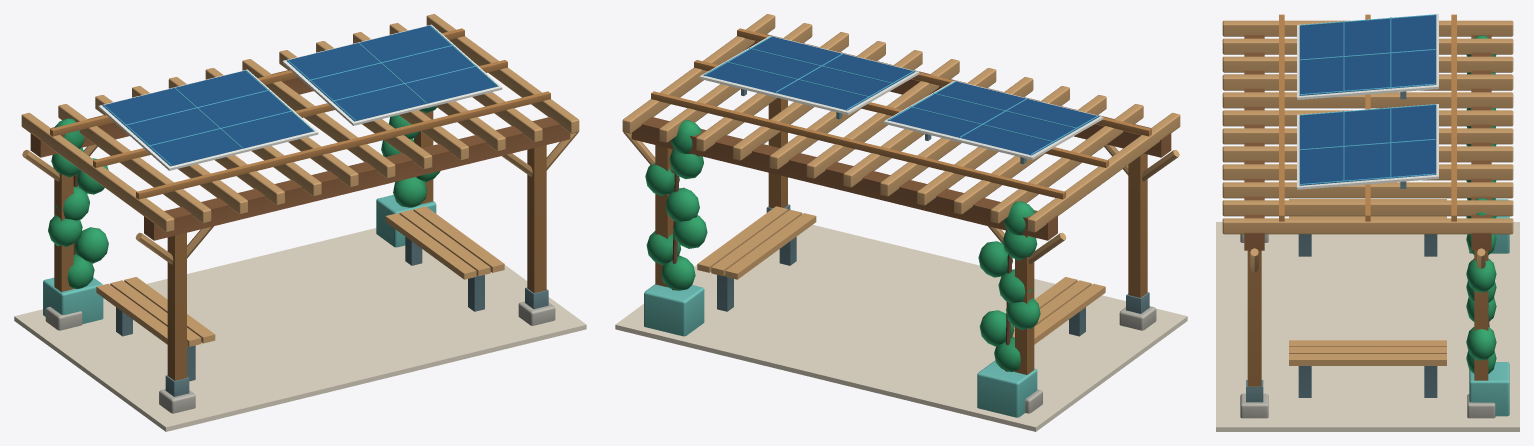
The model's file is pergola.glb.
The picture shows the model from 3 angles, left to right: view 1: azimuth 30°, elevation 25°; view 2: azimuth 150°, elevation 25°; view 3: azimuth 270°, elevation 25°; orthographic projection.
Parts seen in each view (by area): view 1: pergola paving, knee brace, photovoltaic cells, pergola column, double main beam, climbing foliage, vine planter, solar white frame, post steel shoe, solar cell division, post stone footing; view 2: pergola paving, knee brace, photovoltaic cells, pergola column, climbing foliage, double main beam, vine planter, solar white frame, post steel shoe, solar cell division, post stone footing; view 3: pergola paving, knee brace, photovoltaic cells, pergola column, double main beam, climbing foliage, solar white frame, post steel shoe, solar cell division, vine planter, post stone footing.
Boxes of the visible parts, x1,y1,x2,y2 form: pergola paving: [14, 228, 586, 431]; knee brace: [21, 14, 579, 346]; photovoltaic cells: [102, 25, 498, 166]; pergola column: [50, 28, 550, 380]; double main beam: [30, 70, 570, 240]; climbing foliage: [48, 106, 440, 288]; vine planter: [43, 195, 436, 324]; solar white frame: [98, 24, 502, 170]; post steel shoe: [116, 237, 548, 396]; solar cell division: [103, 25, 497, 165]; post stone footing: [45, 301, 555, 413]; pergola paving: [615, 225, 1187, 431]; knee brace: [622, 14, 1180, 344]; photovoltaic cells: [703, 37, 1099, 155]; pergola column: [651, 28, 1151, 374]; climbing foliage: [645, 120, 1040, 371]; double main beam: [631, 34, 1171, 240]; vine planter: [644, 284, 1037, 417]; solar white frame: [699, 35, 1103, 159]; post steel shoe: [717, 89, 1149, 336]; solar cell division: [704, 35, 1098, 155]; post stone footing: [1025, 306, 1156, 413]; pergola paving: [1216, 222, 1519, 431]; knee brace: [1222, 20, 1513, 365]; photovoltaic cells: [1299, 14, 1436, 185]; pergola column: [1247, 14, 1488, 386]; double main beam: [1244, 35, 1491, 250]; climbing foliage: [1466, 35, 1496, 373]; solar white frame: [1297, 14, 1438, 189]; post steel shoe: [1246, 91, 1437, 402]; solar cell division: [1300, 14, 1435, 185]; vine planter: [1469, 199, 1509, 416]; post stone footing: [1240, 234, 1495, 418].
Bounding box in the file's own units: 5.04 × 2.56 × 3.
